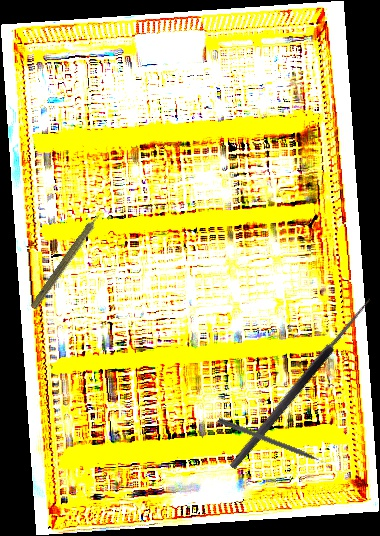Handpiece: (28, 203, 111, 313)
Hook Surgical: (220, 288, 374, 471)
Pusher: (217, 417, 334, 470)
